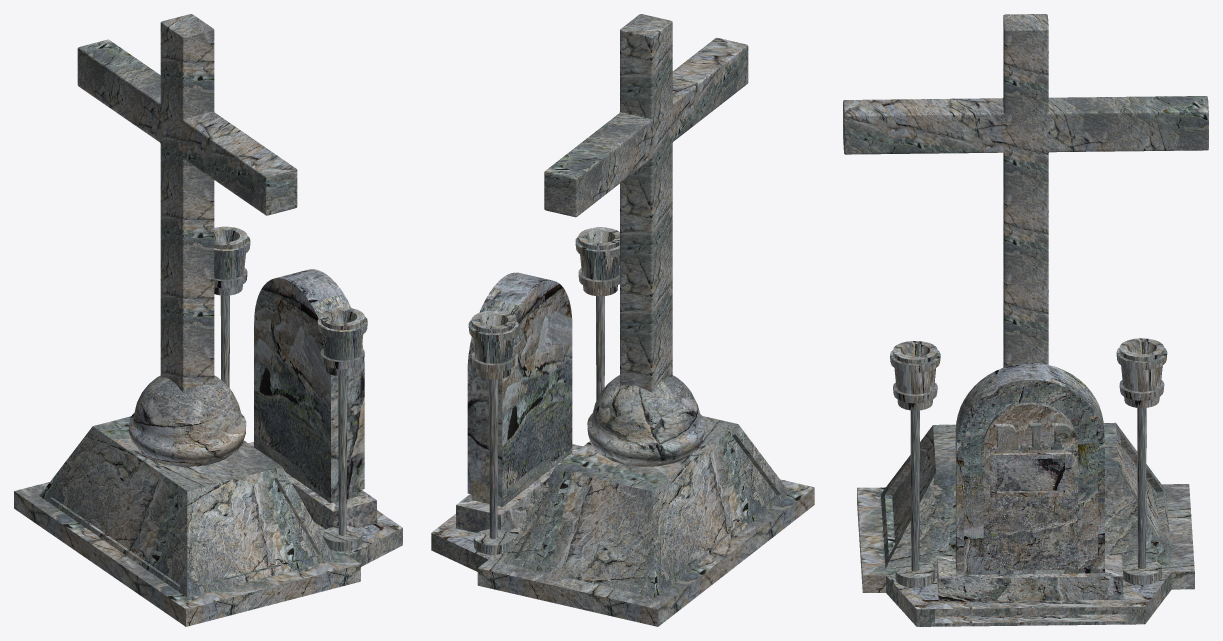
File: ObjTomb.obj
The picture shows the model from 3 angles, left to right: view 1: azimuth 30°, elevation 25°; view 2: azimuth 150°, elevation 25°; view 3: azimuth 270°, elevation 25°; orthographic projection.
Visible parts, largest first — view 1: Tomb_cruz:pCube2, cruz:pCube1_Tomb, Tomb_pCylinder1_group1, Tomb_cruz:pSphere3, Tomb_candalabro:candelabro_candalabro:group1, Tomb_candalabro:group1_candalabro:can; view 2: Tomb_cruz:pCube2, cruz:pCube1_Tomb, Tomb_pCylinder1_group1, Tomb_cruz:pSphere3, Tomb_candalabro:group1_candalabro:can, Tomb_candalabro:candelabro_candalabro:group1; view 3: Tomb_pCylinder1_group1, cruz:pCube1_Tomb, Tomb_cruz:pCube2, Tomb_candalabro:group1_candalabro:can, Tomb_candalabro:candelabro_candalabro:group1, Tomb_group1_polySurface1.
Boxes of the visible parts, box(x1,y1,x2,y2) form: Tomb_cruz:pCube2: box(14, 416, 402, 626); cruz:pCube1_Tomb: box(77, 14, 297, 392); Tomb_pCylinder1_group1: box(248, 269, 376, 529); Tomb_cruz:pSphere3: box(129, 375, 246, 466); Tomb_candalabro:candelabro_candalabro:group1: box(317, 307, 367, 551); Tomb_candalabro:group1_candalabro:can: box(214, 226, 250, 387); Tomb_cruz:pCube2: box(431, 416, 814, 626); cruz:pCube1_Tomb: box(544, 14, 748, 392); Tomb_pCylinder1_group1: box(456, 272, 582, 532); Tomb_cruz:pSphere3: box(587, 375, 704, 466); Tomb_candalabro:group1_candalabro:can: box(468, 310, 518, 554); Tomb_candalabro:candelabro_candalabro:group1: box(575, 227, 619, 400); Tomb_pCylinder1_group1: box(937, 363, 1123, 601); cruz:pCube1_Tomb: box(843, 14, 1208, 367); Tomb_cruz:pCube2: box(857, 422, 1194, 626); Tomb_candalabro:group1_candalabro:can: box(1116, 338, 1167, 584); Tomb_candalabro:candelabro_candalabro:group1: box(890, 341, 940, 587); Tomb_group1_polySurface1: box(993, 423, 1071, 450).
Size of the model in its own units: 3.59 by 7.03 by 4.43.
